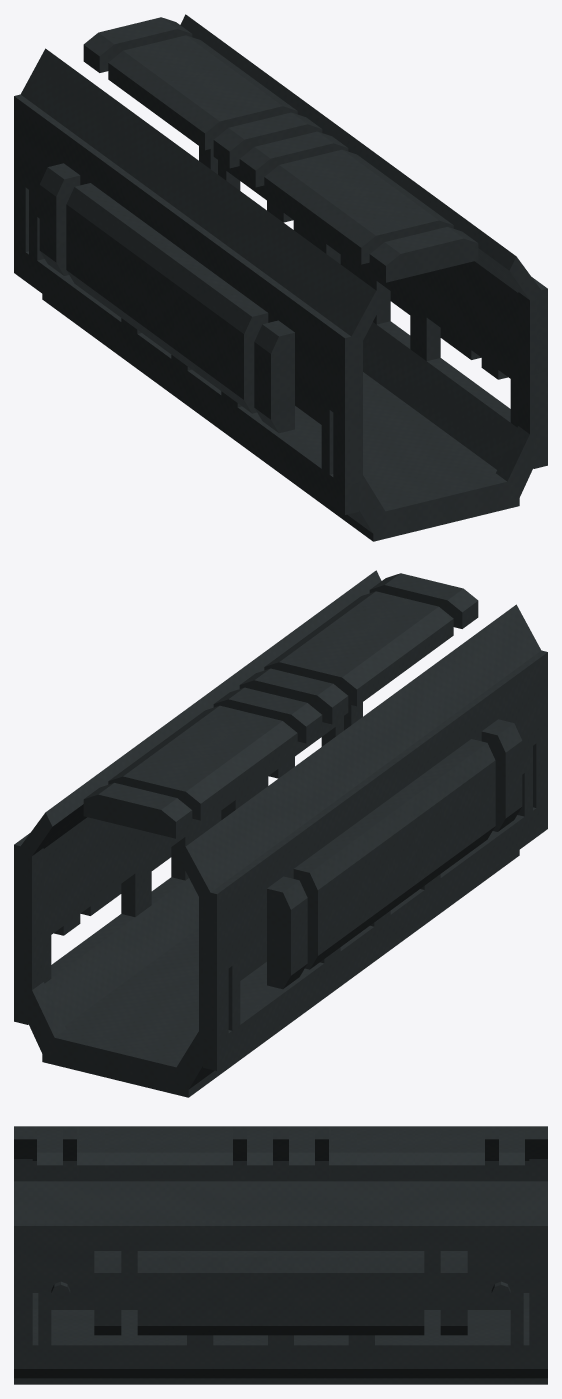
File: g36_rail.glb
3 renders of one model, top to bottom at view 1: azimuth 30°, elevation 25°; view 2: azimuth 150°, elevation 25°; view 3: azimuth 270°, elevation 25°, orthographic. The views are drawn at different scales.
Parts seen in each view (by area): view 1: handguard__g36_rail_LOD0_RAID_Secondary_Original_steel, handguard__g36_rail_LOD1_RAID_Secondary_Original_steel; view 2: handguard__g36_rail_LOD0_RAID_Secondary_Original_steel, handguard__g36_rail_LOD1_RAID_Secondary_Original_steel; view 3: handguard__g36_rail_LOD0_RAID_Secondary_Original_steel, handguard__g36_rail_LOD1_RAID_Secondary_Original_steel.
Boxes of the visible parts, x1=… form: handguard__g36_rail_LOD0_RAID_Secondary_Original_steel: x1=14, y1=14, x2=547, y2=541; handguard__g36_rail_LOD1_RAID_Secondary_Original_steel: x1=30, y1=35, x2=517, y2=501; handguard__g36_rail_LOD0_RAID_Secondary_Original_steel: x1=14, y1=570, x2=547, y2=1097; handguard__g36_rail_LOD1_RAID_Secondary_Original_steel: x1=44, y1=591, x2=532, y2=1053; handguard__g36_rail_LOD0_RAID_Secondary_Original_steel: x1=14, y1=1126, x2=547, y2=1384; handguard__g36_rail_LOD1_RAID_Secondary_Original_steel: x1=38, y1=1128, x2=522, y2=1368.
Bounding box in the file's own units: 0.125 × 0.136 × 0.285.
1 material, 1 textured.
